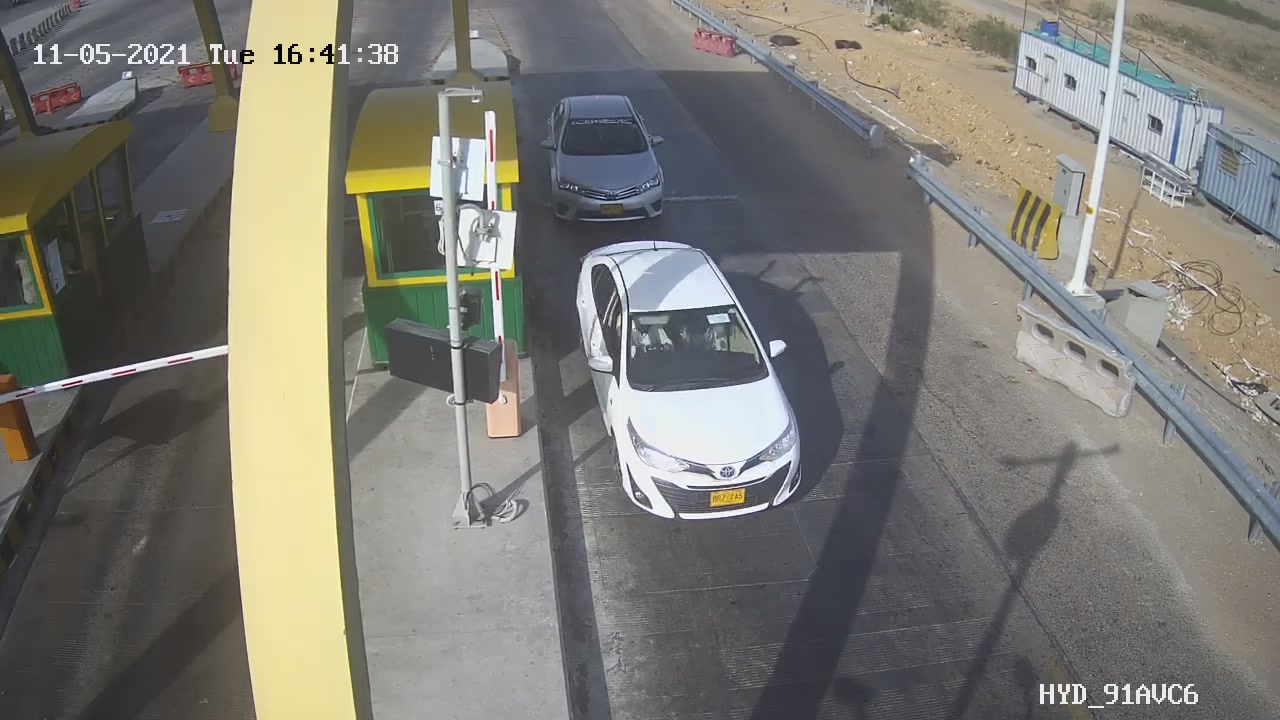F1: (525, 85, 696, 231)
